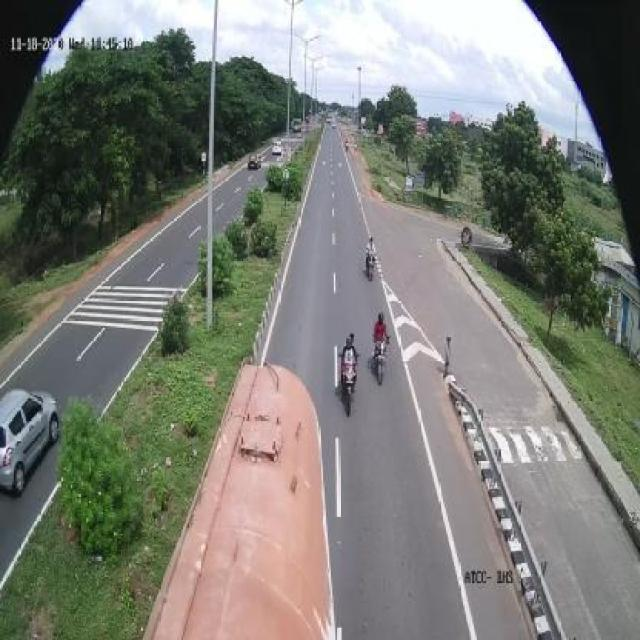car: (1, 388, 54, 504)
